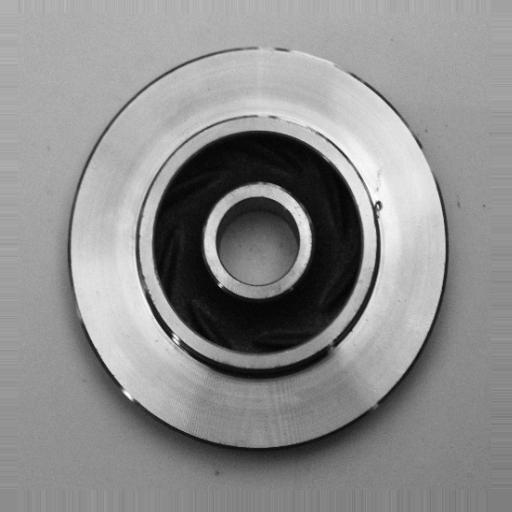crack: (365, 191, 389, 227)
scratch: (242, 106, 317, 138), (153, 323, 189, 359)
unpolished_casting: (68, 45, 452, 454)
